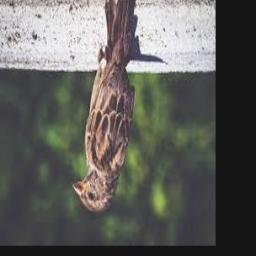Sparrow: (73, 0, 136, 214)
